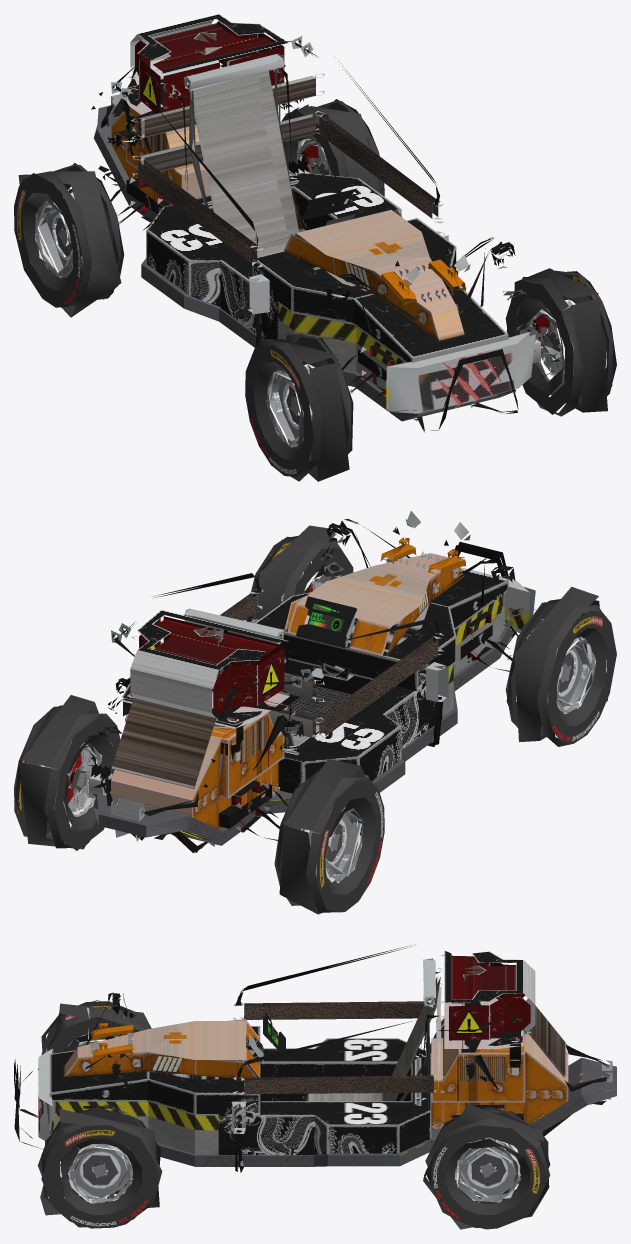
The model's file is buggy-2-lite.glb.
3 views of the same model, one above another, from view 1: azimuth 30°, elevation 25°; view 2: azimuth 150°, elevation 25°; view 3: azimuth 270°, elevation 25° (orthographic). The views are drawn at different scales.
Visible parts, largest first — view 1: 1 BAN_VHC_SC_Buggy01_ID-1_MAT_0; view 2: 1 BAN_VHC_SC_Buggy01_ID-1_MAT_0; view 3: 1 BAN_VHC_SC_Buggy01_ID-1_MAT_0.
Part boxes in pixels (bbox=[...]): 1 BAN_VHC_SC_Buggy01_ID-1_MAT_0: bbox=[14, 14, 616, 481]; 1 BAN_VHC_SC_Buggy01_ID-1_MAT_0: bbox=[14, 511, 616, 914]; 1 BAN_VHC_SC_Buggy01_ID-1_MAT_0: bbox=[14, 945, 616, 1229].
Size of the model in its own units: 1.88 by 1.41 by 3.79.
Materials: 10 (10 with a texture image).
